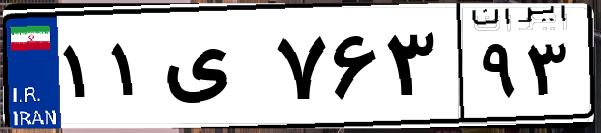1: (57, 26, 110, 100), (110, 28, 158, 98)
3: (385, 28, 445, 110), (525, 38, 570, 115)
6: (330, 28, 385, 110)
7: (270, 28, 330, 110)
9: (475, 38, 525, 113)
ی: (158, 20, 270, 120)
